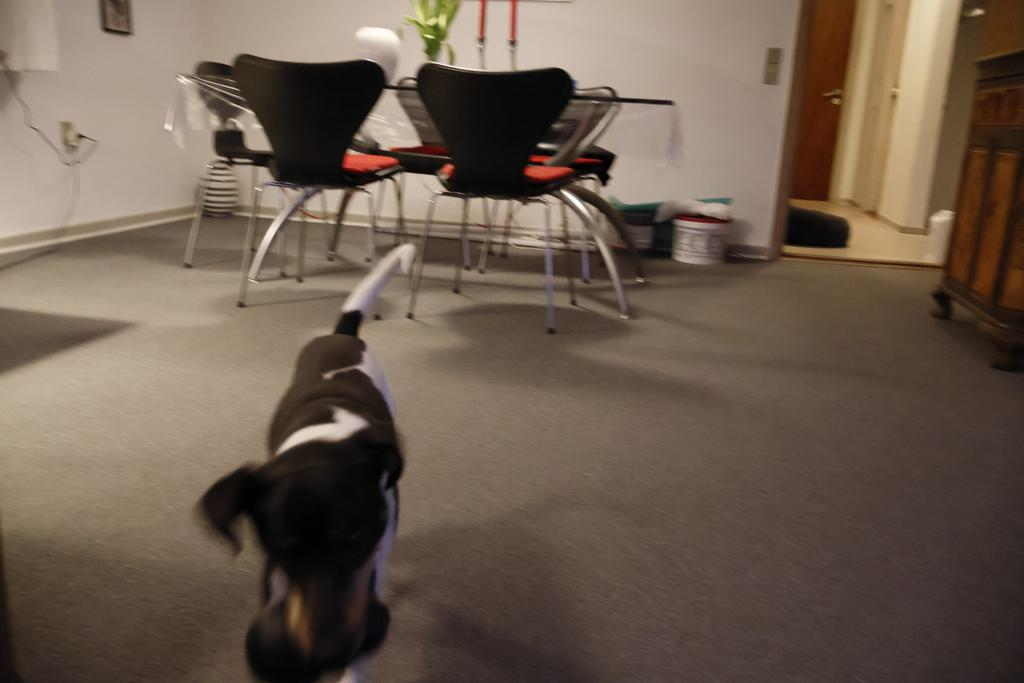Dog: (180, 233, 444, 683)
